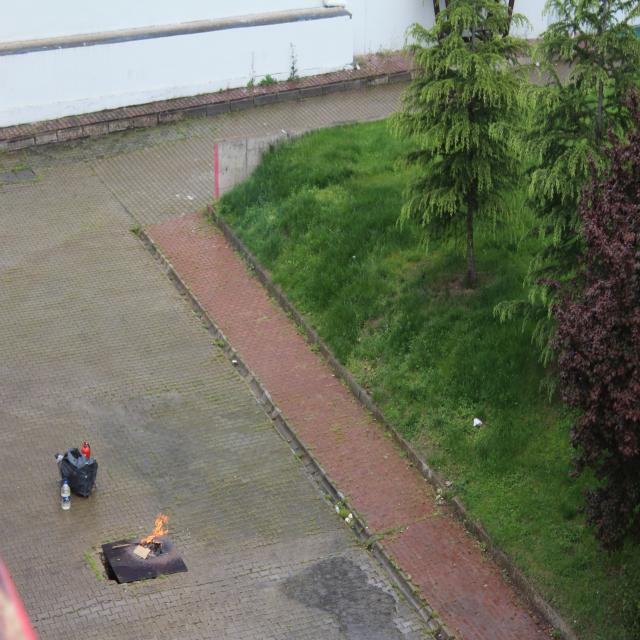fire: (140, 511, 171, 548)
